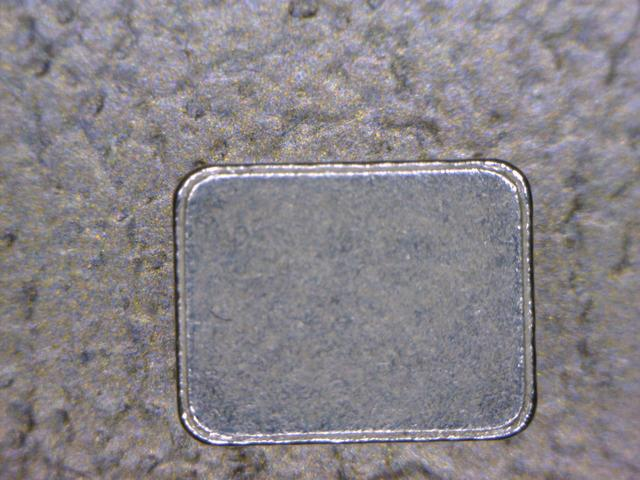nok: (165, 156, 545, 445)
